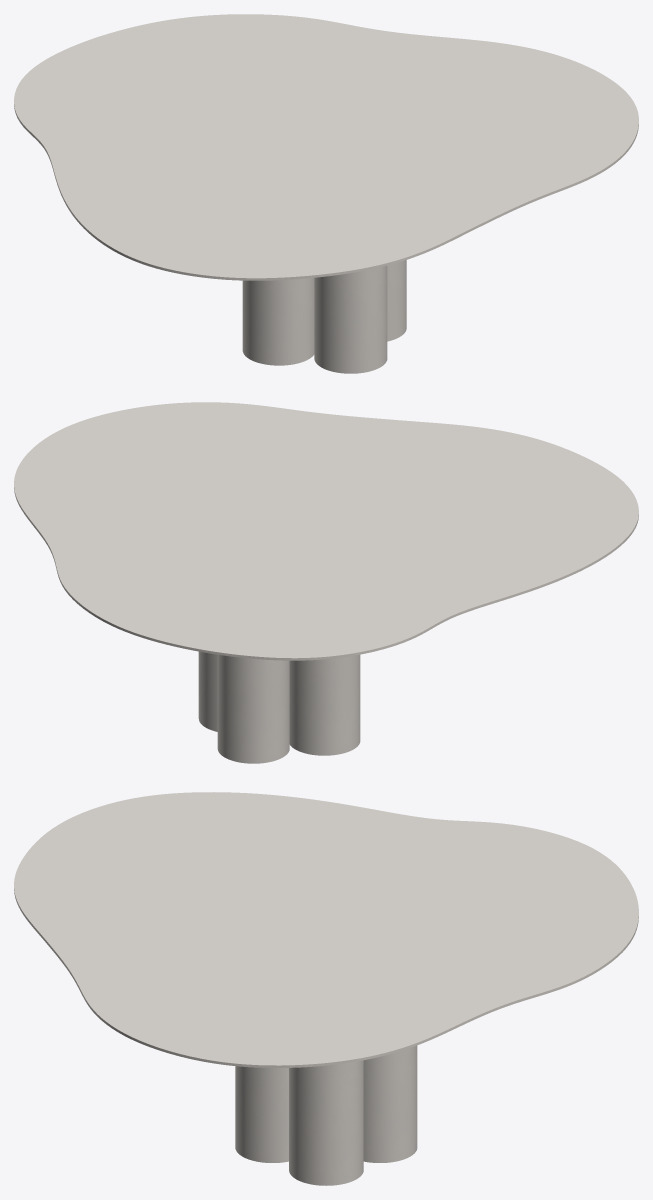
File: pearlwhite_topone_facet_secondtable.glb
The picture shows the model from 3 angles, top to bottom: view 1: azimuth 30°, elevation 25°; view 2: azimuth 150°, elevation 25°; view 3: azimuth 270°, elevation 25°; orthographic projection. The views are drawn at different scales.
Parts seen in each view (by area): view 1: facet_topone, secondtable; view 2: facet_topone, secondtable; view 3: facet_topone, secondtable.
Part boxes in pixels (x1,y1,x2,y2): facet_topone: [14, 14, 638, 280]; secondtable: [242, 260, 406, 373]; facet_topone: [14, 402, 638, 660]; secondtable: [198, 651, 360, 763]; facet_topone: [14, 792, 638, 1067]; secondtable: [235, 1045, 417, 1185].
Bounding box in the file's own units: 6.83 × 2.5 × 6.6.
1 material, 1 textured.
